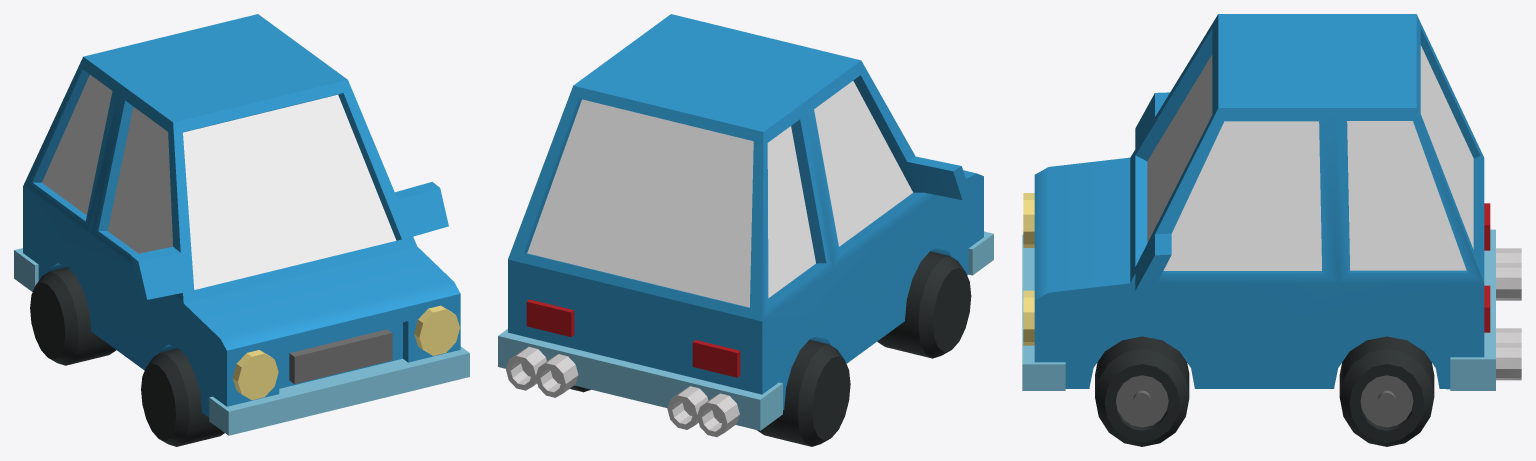
File: obj_car1_1.fbx
3 renders of one model, left to right at view 1: azimuth 30°, elevation 25°; view 2: azimuth 150°, elevation 25°; view 3: azimuth 270°, elevation 25°, orthographic. The views are drawn at different scales.
Visible parts, largest first — view 1: obj_car1_1; view 2: obj_car1_1; view 3: obj_car1_1.
Boxes of the visible parts, bbox=[...] form: obj_car1_1: bbox=[14, 14, 469, 446]; obj_car1_1: bbox=[498, 14, 993, 446]; obj_car1_1: bbox=[1022, 14, 1521, 446].
Bounding box in the file's own units: 1.34 × 1.22 × 1.74.
Materials: 2 (2 with a texture image).
